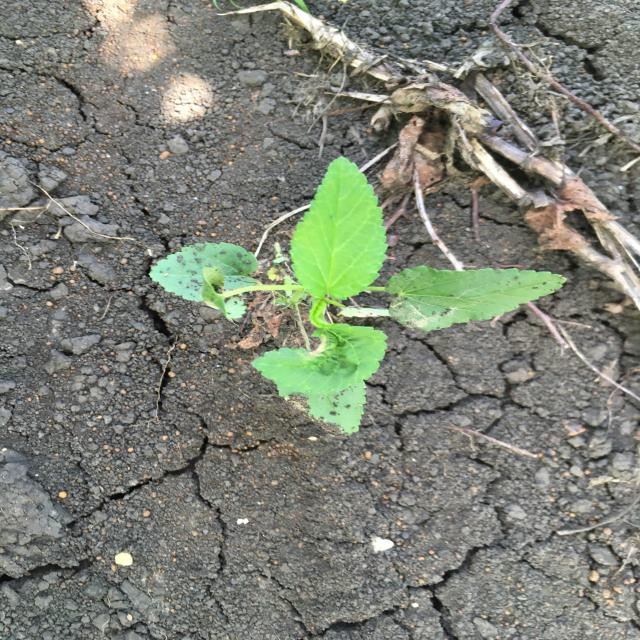PricklySida: (147, 155, 570, 438)
